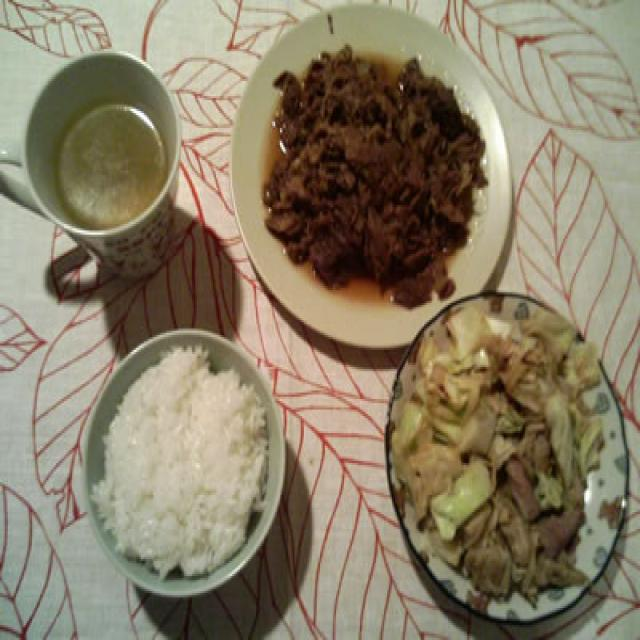蔬菜料理: (405, 322, 597, 595)
